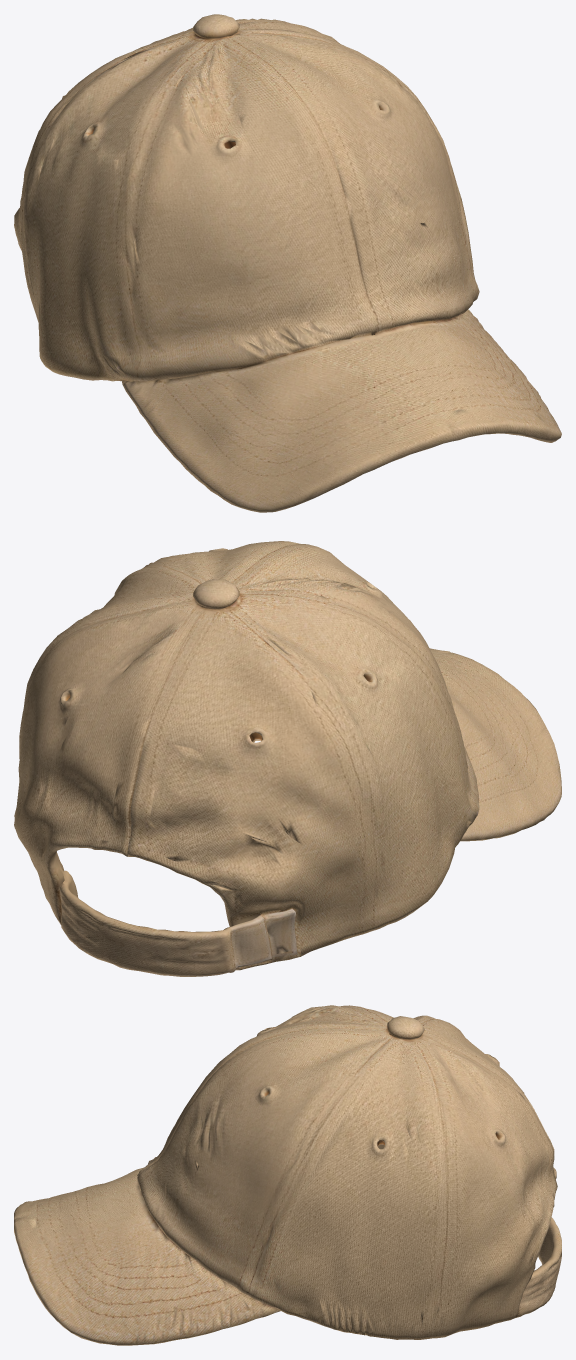
File: cap.glb
3 renders of one model, top to bottom at view 1: azimuth 30°, elevation 25°; view 2: azimuth 150°, elevation 25°; view 3: azimuth 270°, elevation 25°, orthographic. The views are drawn at different scales.
Visible parts, largest first — view 1: tripo_node_e847a872-b841-4179-ae55-7f2ba78d58e6; view 2: tripo_node_e847a872-b841-4179-ae55-7f2ba78d58e6; view 3: tripo_node_e847a872-b841-4179-ae55-7f2ba78d58e6.
Part boxes in pixels (box(x1,y1,x2,y2)): tripo_node_e847a872-b841-4179-ae55-7f2ba78d58e6: box(14, 14, 561, 512); tripo_node_e847a872-b841-4179-ae55-7f2ba78d58e6: box(14, 541, 561, 976); tripo_node_e847a872-b841-4179-ae55-7f2ba78d58e6: box(14, 1005, 561, 1345).
Bounding box in the file's own units: 0.6563 × 0.5262 × 0.9778.
1 material, 1 textured.
